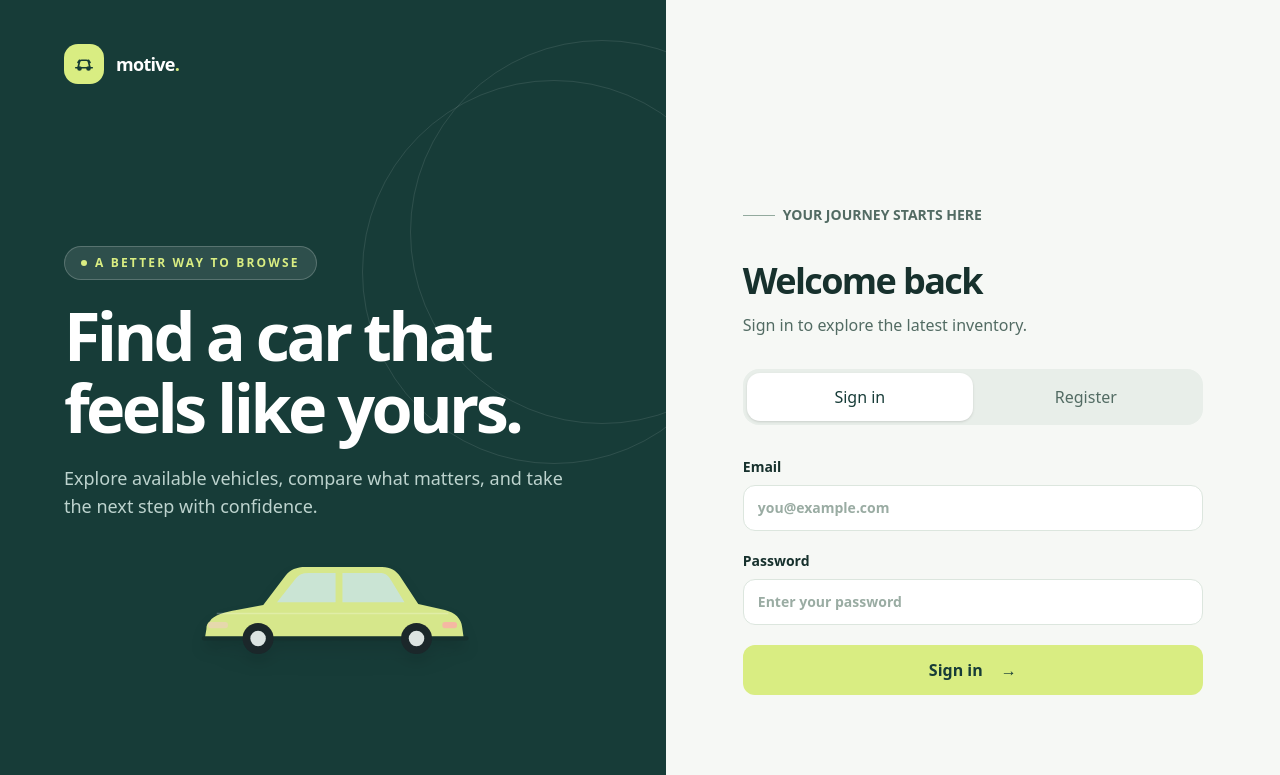
Scenario: customer application › explains when an expired session requires sign-in
This screenshot has width=1280, height=775.
Type "asha@example.com" into the field labelled "Email". click: (973,508)
box: [743,485,1203,531]
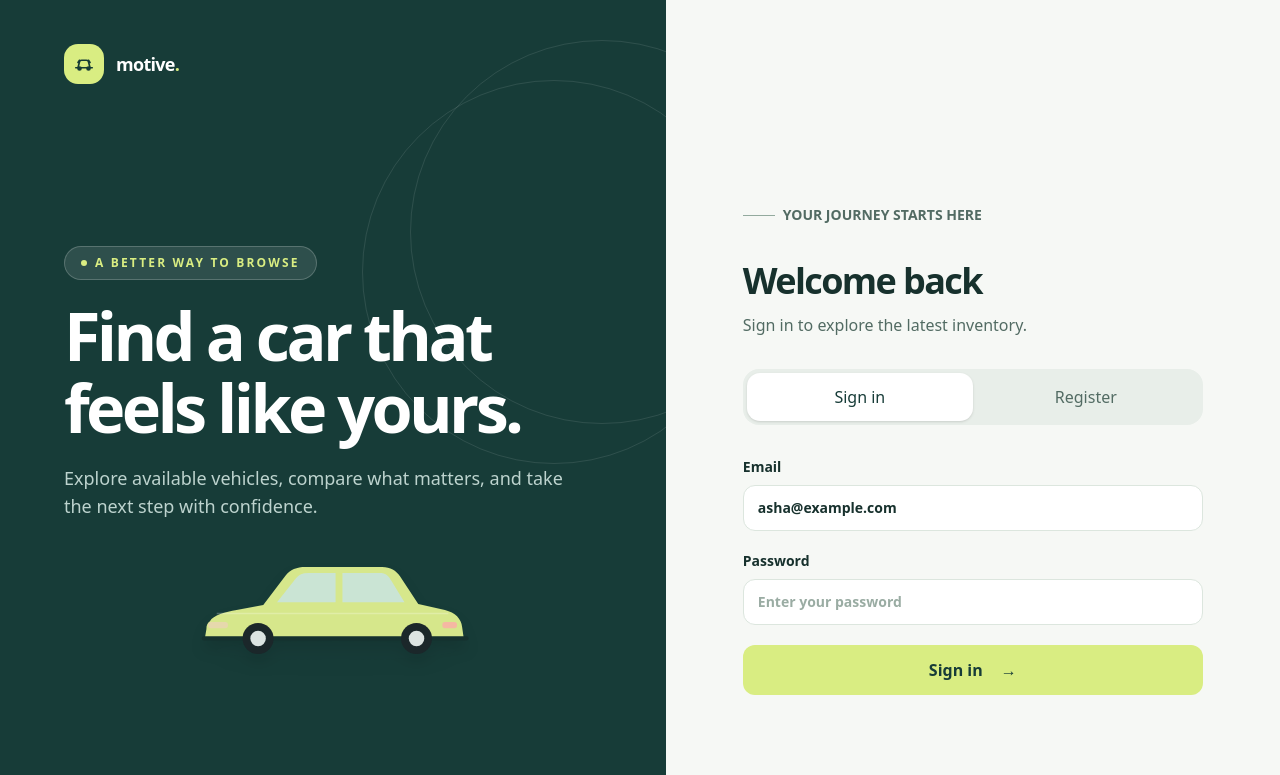
Type "StrongPass123!" into the password field labelled "Password". click: (973,602)
box: [743,579,1203,625]
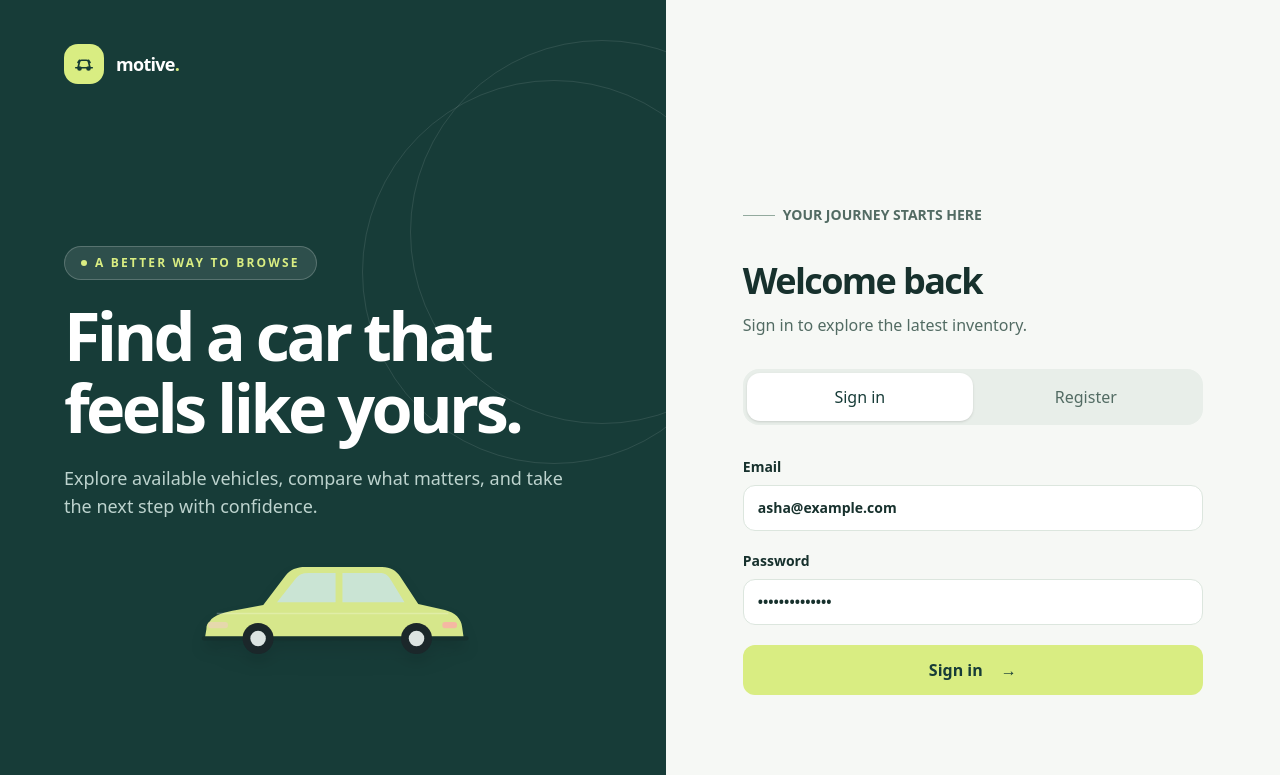
Click the button "Sign in →". click: (973,670)
box: [743,645,1203,695]
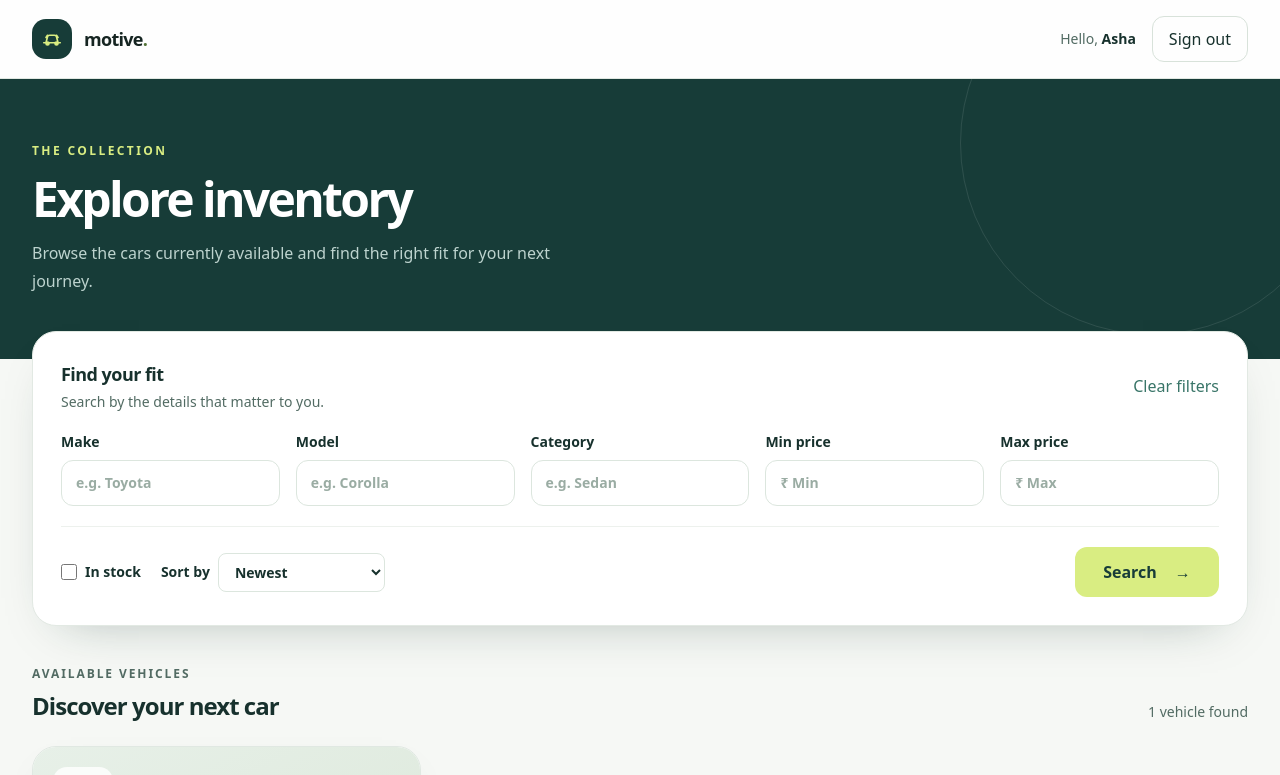
Check: the heading "Explore inventory" is shown, box [32,166,411,231]
Click the button "Search →". click: (1147,572)
box: [1075,547,1219,597]
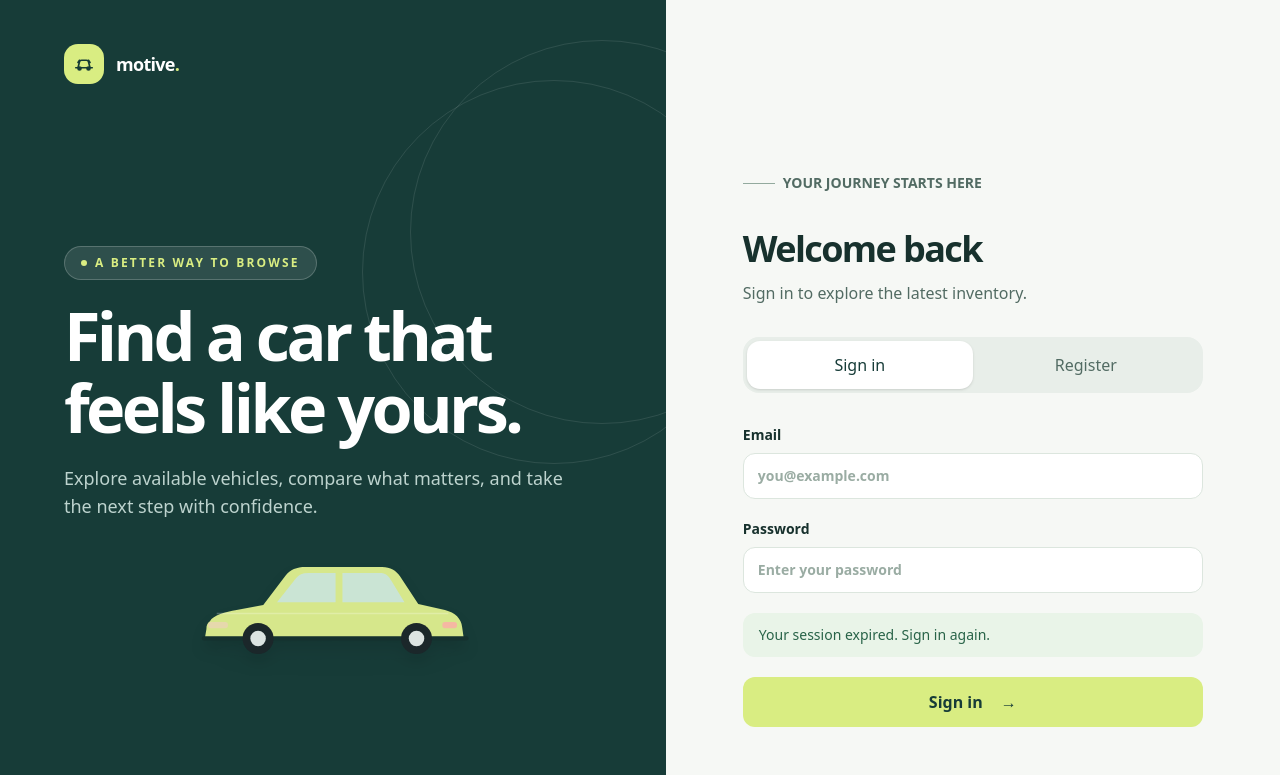
Check: the heading "Welcome back" is shown, box [743,224,982,273]
Check: the message reads "Your session expired. Sign in again.", box [759,625,990,644]
